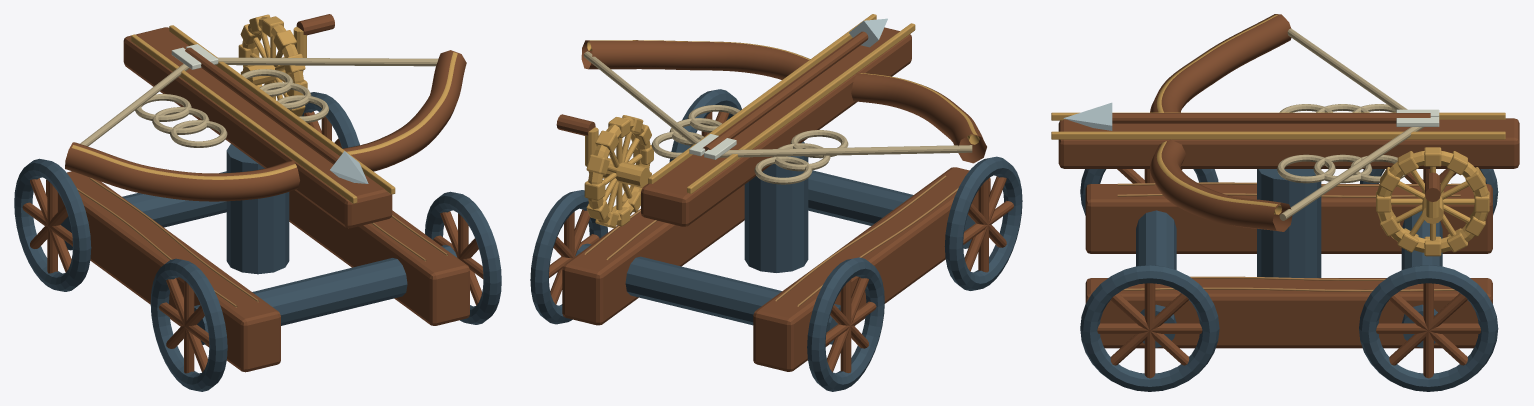
The model's file is ballista-1.glb.
The picture shows the model from 3 angles, left to right: view 1: azimuth 30°, elevation 25°; view 2: azimuth 150°, elevation 25°; view 3: azimuth 270°, elevation 25°; orthographic projection. The views are drawn at different scales.
Parts seen in each view (by area): view 1: Base - Oiled walnut, Base - Blue tempered steel, Carriage - Oiled walnut, Carriage - Brushed electrum, Carriage - Hemp windings, Winch - Brushed electrum, Bowstring - Hemp windings, LoadedBolt - Oiled walnut, Base - Cut heartwood, LoadedBolt - Edge steel, LoadedBolt - Royal ivory enamel, Winch - Oiled walnut; view 2: Base - Blue tempered steel, Base - Oiled walnut, Carriage - Oiled walnut, Winch - Brushed electrum, Carriage - Brushed electrum, Carriage - Hemp windings, Bowstring - Hemp windings, LoadedBolt - Oiled walnut, Base - Cut heartwood, LoadedBolt - Royal ivory enamel, LoadedBolt - Edge steel, Winch - Oiled walnut; view 3: Base - Oiled walnut, Carriage - Oiled walnut, Base - Blue tempered steel, Winch - Brushed electrum, Carriage - Brushed electrum, LoadedBolt - Oiled walnut, Carriage - Hemp windings, Bowstring - Hemp windings, Base - Cut heartwood, LoadedBolt - Edge steel, LoadedBolt - Royal ivory enamel, Winch - Oiled walnut.
Boxes of the visible parts, bbox=[...] form: Base - Oiled walnut: bbox=[22, 111, 483, 373]; Base - Blue tempered steel: bbox=[14, 92, 501, 391]; Carriage - Oiled walnut: bbox=[65, 27, 466, 228]; Carriage - Brushed electrum: bbox=[71, 25, 457, 203]; Carriage - Hemp windings: bbox=[135, 69, 328, 147]; Winch - Brushed electrum: bbox=[238, 14, 307, 116]; Bowstring - Hemp windings: bbox=[80, 57, 438, 146]; LoadedBolt - Oiled walnut: bbox=[185, 47, 339, 164]; Base - Cut heartwood: bbox=[77, 177, 447, 307]; LoadedBolt - Edge steel: bbox=[330, 151, 368, 183]; LoadedBolt - Royal ivory enamel: bbox=[171, 44, 218, 69]; Winch - Oiled walnut: bbox=[296, 14, 334, 35]; Base - Blue tempered steel: bbox=[530, 89, 1022, 391]; Base - Oiled walnut: bbox=[549, 111, 1013, 373]; Carriage - Oiled walnut: bbox=[581, 27, 986, 226]; Winch - Brushed electrum: bbox=[584, 115, 653, 228]; Carriage - Brushed electrum: bbox=[587, 14, 979, 193]; Carriage - Hemp windings: bbox=[651, 105, 848, 184]; Bowstring - Hemp windings: bbox=[583, 51, 972, 157]; LoadedBolt - Oiled walnut: bbox=[703, 31, 868, 151]; Base - Cut heartwood: bbox=[584, 175, 958, 306]; LoadedBolt - Royal ivory enamel: bbox=[689, 134, 736, 159]; LoadedBolt - Edge steel: bbox=[849, 18, 887, 47]; Winch - Oiled walnut: bbox=[556, 114, 595, 135]; Base - Oiled walnut: bbox=[1085, 169, 1492, 378]; Carriage - Oiled walnut: bbox=[1058, 14, 1519, 231]; Base - Blue tempered steel: bbox=[1080, 169, 1498, 391]; Winch - Brushed electrum: bbox=[1376, 147, 1489, 256]; Carriage - Brushed electrum: bbox=[1051, 14, 1505, 214]; LoadedBolt - Oiled walnut: bbox=[1112, 113, 1430, 123]; Carriage - Hemp windings: bbox=[1277, 104, 1405, 183]; Bowstring - Hemp windings: bbox=[1279, 28, 1423, 220]; Base - Cut heartwood: bbox=[1117, 182, 1460, 291]; LoadedBolt - Edge steel: bbox=[1063, 102, 1112, 130]; LoadedBolt - Royal ivory enamel: bbox=[1396, 109, 1439, 126]; Winch - Oiled walnut: bbox=[1425, 172, 1440, 201].
Size of the model in its own units: 2.21 by 1.14 by 2.18.
